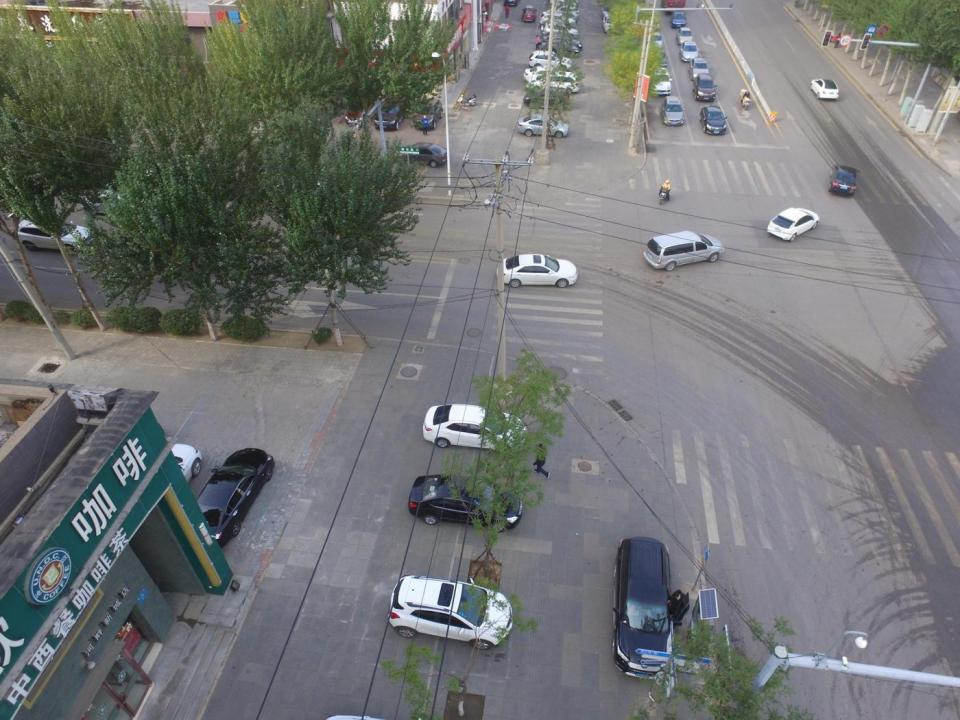car: (186, 448, 274, 550), (391, 575, 513, 648), (113, 440, 201, 531), (408, 474, 522, 526), (424, 400, 526, 452), (13, 217, 87, 260), (497, 252, 579, 288), (644, 232, 722, 268), (767, 208, 818, 243), (85, 188, 141, 219), (394, 142, 448, 168), (374, 91, 406, 131), (523, 66, 576, 88), (343, 92, 378, 125), (519, 115, 568, 138), (412, 96, 442, 132), (530, 72, 579, 94), (522, 86, 568, 108), (531, 48, 568, 73), (538, 39, 578, 62), (830, 164, 859, 195), (700, 106, 728, 137), (539, 34, 581, 52), (662, 95, 685, 127), (647, 67, 672, 96), (809, 78, 839, 102), (539, 10, 575, 30), (692, 73, 716, 100), (542, 22, 577, 40), (640, 29, 664, 53), (643, 46, 667, 69), (603, 13, 626, 34), (693, 58, 709, 82), (677, 25, 694, 46), (682, 41, 698, 63), (671, 9, 687, 28), (524, 3, 535, 22)
van: (615, 536, 675, 680)
